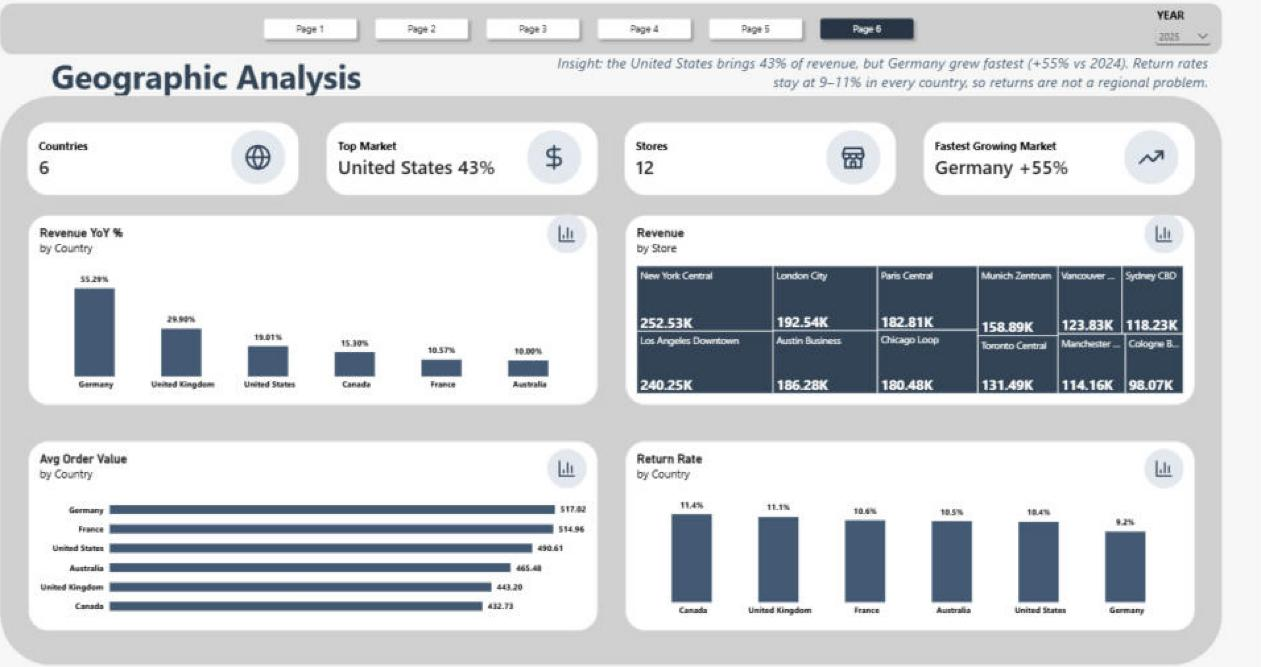

What the dashboard file says about the page in this screenshot:
{"tool":"powerbi","page":{"name":"Page 6","canvas":[1920,1080],"ordinal":5},"visuals":[{"type":"shape","box":[59.8,43.8,1800.4,75.9],"z":0},{"type":"shape","box":[59.8,180.9,1800.4,838.9],"z":0,"group":"g1"},{"type":"textbox","title":"Geographic Analysis","box":[135.7,119.6,1000,61.3],"z":1000},{"type":"group","id":"g1","title":"Group 1","box":[59.8,180.9,1800.4,838.9],"z":2000},{"type":"cardVisual","fields":{"Data":["vw_valid_sales.Countries"]},"box":[100,219.6,400,108.9],"z":3000,"group":"g1"},{"type":"image","box":[813.7,231.8,125.5,80.2],"z":3000},{"type":"slicer","fields":{"Values":["vw_valid_sales.Order_Year"]},"box":[1757.1,49.9,93.1,63.2],"z":4000},{"type":"cardVisual","fields":{"Data":["vw_valid_sales.Top Market"]},"box":[540,219,400,108.9],"z":4000,"group":"g1"},{"type":"cardVisual","fields":{"Data":["vw_valid_sales.Stores"]},"box":[980,219,400,108.9],"z":5000,"group":"g1"},{"type":"image","box":[850.1,355.7,90,57.6],"z":5000},{"type":"cardVisual","fields":{"Data":["vw_valid_sales.Fastest Growing Market"]},"box":[1420,219,400,108.9],"z":6000,"group":"g1"},{"type":"image","box":[1729.6,355.7,90,57.6],"z":6000},{"type":"columnChart","fields":{"Category":["vw_valid_sales.Country"],"Y":["vw_valid_sales.Revenue YoY %"]},"box":[100.7,355.7,838.9,279.8],"z":7000,"group":"g1"},{"type":"image","box":[1729.6,701,90,57.6],"z":7000},{"type":"treemap","title":"Revenue","fields":{"Group":["vw_valid_sales.Store_Name"],"Values":["vw_valid_sales.Revenue"]},"box":[980.4,355.7,838.9,279.8],"z":8000,"group":"g1"},{"type":"image","box":[850.1,701,90,57.6],"z":8000},{"type":"image","box":[377.2,231.8,125.5,80.2],"z":9000},{"type":"barChart","fields":{"Category":["vw_valid_sales.Country"],"Y":["vw_valid_sales.Avg Order Value"]},"box":[100.7,689.5,838.9,279.8],"z":9000,"group":"g1"},{"type":"pageNavigator","box":[439.1,56.9,980.4,49.6],"z":10000},{"type":"columnChart","fields":{"Category":["vw_valid_sales.Country"],"Y":["vw_valid_sales.Return Rate (Geo) %"]},"box":[980.4,689.5,838.9,279.8],"z":10000,"group":"g1"},{"type":"image","box":[1693.3,231.8,125.5,80.2],"z":11000},{"type":"image","box":[1253.5,231.8,125.5,80.2],"z":12000},{"type":"textbox","title":"Insight: the United States brings 43% of revenue, but Germany grew fastest (+55% vs 2024). Return rates stay at 9–11% in every country, so returns are not a regional problem.","box":[840,116,1000,64],"z":13001}]}

Visuals, with their boxes on the page's 1920x1080 design canvas (x1, y1, x2, y2). These are canvas units, not pixel positions in the 1261x667 screenshot, which may show the page scaled, cropped or inside an application window:
shape: <region>60, 44, 1860, 120</region>
shape: <region>60, 181, 1860, 1020</region>
"Geographic Analysis" textbox: <region>136, 120, 1136, 181</region>
"Group 1" group: <region>60, 181, 1860, 1020</region>
cardVisual - vw_valid_sales.Countries: <region>100, 220, 500, 328</region>
image: <region>814, 232, 939, 312</region>
slicer - vw_valid_sales.Order_Year: <region>1757, 50, 1850, 113</region>
cardVisual - vw_valid_sales.Top Market: <region>540, 219, 940, 328</region>
cardVisual - vw_valid_sales.Stores: <region>980, 219, 1380, 328</region>
image: <region>850, 356, 940, 413</region>
cardVisual - vw_valid_sales.Fastest Growing Market: <region>1420, 219, 1820, 328</region>
image: <region>1730, 356, 1820, 413</region>
columnChart - vw_valid_sales.Country x vw_valid_sales.Revenue YoY %: <region>101, 356, 940, 636</region>
image: <region>1730, 701, 1820, 759</region>
"Revenue" treemap: <region>980, 356, 1819, 636</region>
image: <region>850, 701, 940, 759</region>
image: <region>377, 232, 503, 312</region>
barChart - vw_valid_sales.Country x vw_valid_sales.Avg Order Value: <region>101, 690, 940, 969</region>
pageNavigator: <region>439, 57, 1420, 106</region>
columnChart - vw_valid_sales.Country x vw_valid_sales.Return Rate (Geo) %: <region>980, 690, 1819, 969</region>
image: <region>1693, 232, 1819, 312</region>
image: <region>1254, 232, 1379, 312</region>
"Insight: the United States brings 43% of revenue, but Germany grew fastest (+55% vs 2024). Return rates stay at 9–11% in every country, so returns are not a regional problem." textbox: <region>840, 116, 1840, 180</region>
